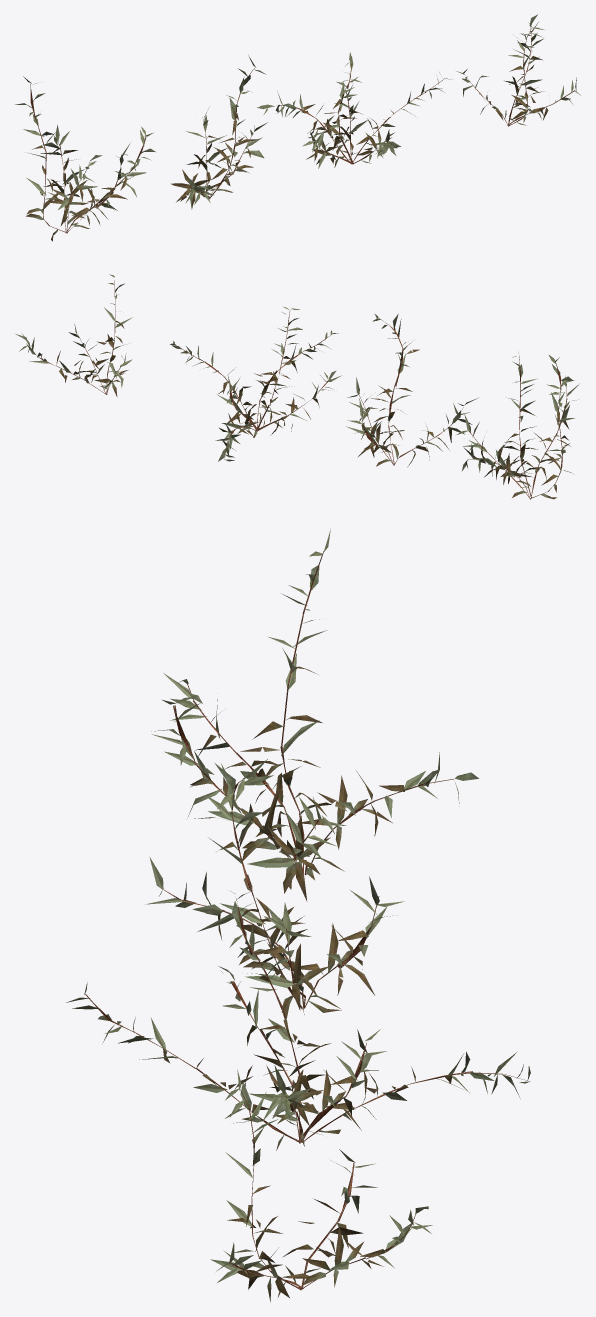
File: shrub_02.glb
The picture shows the model from 3 angles, top to bottom: view 1: azimuth 30°, elevation 25°; view 2: azimuth 150°, elevation 25°; view 3: azimuth 270°, elevation 25°; orthographic projection. The views are drawn at different scales.
Visible parts, largest first — view 1: Prop; view 2: Prop; view 3: Prop.
Part boxes in pixels (left/top/right/bottom): Prop: left=15, top=14, right=580, bottom=241; Prop: left=15, top=274, right=579, bottom=499; Prop: left=66, top=528, right=530, bottom=1302.
Bounding box in the file's own units: 6.03 × 1.69 × 2.28.
Materials: 1 (1 with a texture image).
